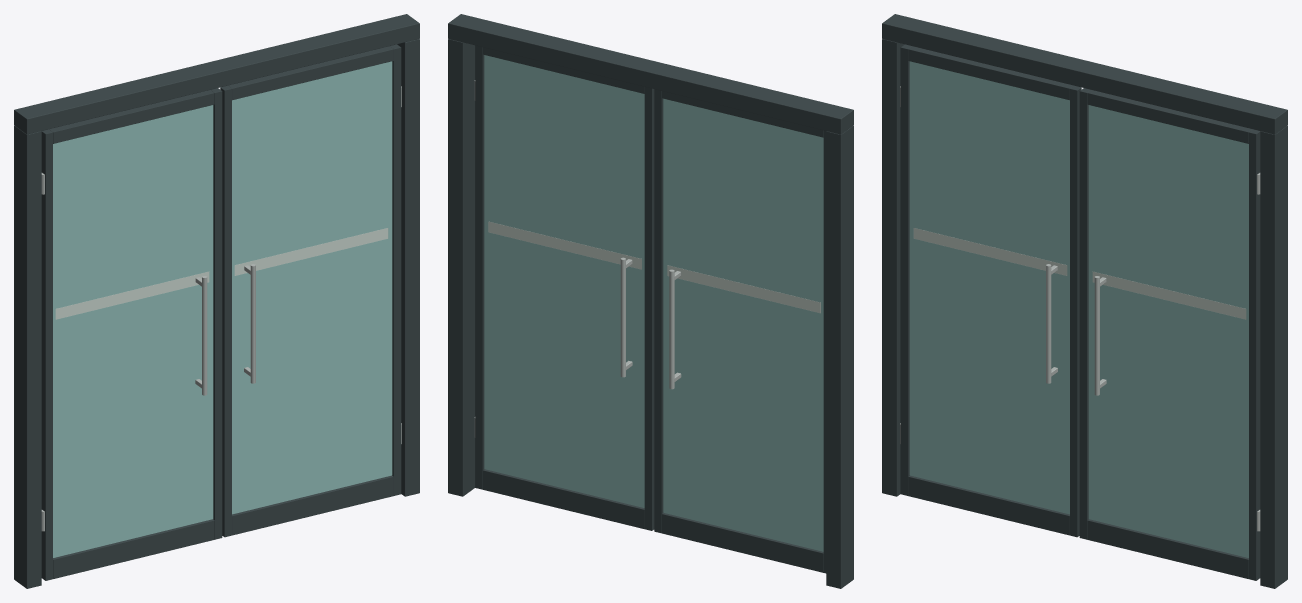
The model's file is mall-shopfront-door.glb.
3 views of the same model, side by side, from view 1: azimuth 30°, elevation 25°; view 2: azimuth 150°, elevation 25°; view 3: azimuth 330°, elevation 25° (orthographic).
Parts seen in each view (by area): view 1: GLASS_Left, GLASS_Right, FRAME_Jamb_Left, FRAME_Header, FRAME_Jamb_Right, LEAF_Left_HingeStile, LEAF_Right_MeetingStile, LEAF_Left_MeetingStile, LEAF_Right_HingeStile, LEAF_Right_BottomRail, LEAF_Left_BottomRail, LEAF_Left_TopRail (+5 smaller); view 2: GLASS_Left, GLASS_Right, FRAME_Jamb_Left, FRAME_Jamb_Right, FRAME_Header, LEAF_Right_MeetingStile, LEAF_Right_HingeStile, LEAF_Left_MeetingStile, LEAF_Left_BottomRail, LEAF_Right_BottomRail, LEAF_Left_HingeStile, BAND_Left_Back (+5 smaller); view 3: GLASS_Right, GLASS_Left, FRAME_Jamb_Right, FRAME_Header, FRAME_Jamb_Left, LEAF_Right_HingeStile, LEAF_Left_MeetingStile, LEAF_Right_MeetingStile, LEAF_Left_HingeStile, LEAF_Left_BottomRail, LEAF_Right_BottomRail, LEAF_Left_TopRail (+5 smaller).
Boxes of the visible parts, bbox=[...] form: GLASS_Left: bbox=[53, 105, 213, 557]; GLASS_Right: bbox=[232, 61, 392, 514]; FRAME_Jamb_Left: bbox=[14, 125, 41, 588]; FRAME_Header: bbox=[14, 14, 419, 134]; FRAME_Jamb_Right: bbox=[397, 39, 419, 496]; LEAF_Left_HingeStile: bbox=[41, 129, 52, 580]; LEAF_Right_MeetingStile: bbox=[220, 85, 231, 537]; LEAF_Left_MeetingStile: bbox=[211, 88, 222, 539]; LEAF_Right_HingeStile: bbox=[390, 44, 401, 495]; LEAF_Right_BottomRail: bbox=[232, 475, 393, 535]; LEAF_Left_BottomRail: bbox=[53, 519, 214, 578]; LEAF_Left_TopRail: bbox=[49, 90, 214, 143]; GLASS_Left: bbox=[663, 98, 823, 551]; GLASS_Right: bbox=[484, 55, 644, 507]; FRAME_Jamb_Left: bbox=[826, 125, 853, 588]; FRAME_Jamb_Right: bbox=[448, 39, 475, 496]; FRAME_Header: bbox=[448, 14, 853, 134]; LEAF_Right_MeetingStile: bbox=[644, 87, 654, 530]; LEAF_Right_HingeStile: bbox=[475, 45, 484, 489]; LEAF_Left_MeetingStile: bbox=[654, 89, 663, 533]; LEAF_Left_BottomRail: bbox=[662, 513, 823, 572]; LEAF_Right_BottomRail: bbox=[483, 469, 644, 528]; LEAF_Left_HingeStile: bbox=[823, 130, 826, 573]; BAND_Left_Back: bbox=[667, 265, 820, 313]; GLASS_Right: bbox=[1088, 105, 1248, 557]; GLASS_Left: bbox=[909, 61, 1069, 514]; FRAME_Jamb_Right: bbox=[1260, 125, 1287, 588]; FRAME_Header: bbox=[882, 14, 1287, 134]; FRAME_Jamb_Left: bbox=[882, 39, 904, 496]; LEAF_Right_HingeStile: bbox=[1249, 129, 1260, 580]; LEAF_Left_MeetingStile: bbox=[1070, 85, 1081, 537]; LEAF_Right_MeetingStile: bbox=[1079, 88, 1090, 539]; LEAF_Left_HingeStile: bbox=[900, 44, 911, 495]; LEAF_Left_BottomRail: bbox=[908, 475, 1069, 535]; LEAF_Right_BottomRail: bbox=[1087, 519, 1248, 578]; LEAF_Left_TopRail: bbox=[908, 46, 1073, 100].
Size of the model in its own units: 2.1 by 2.4 by 0.183.
